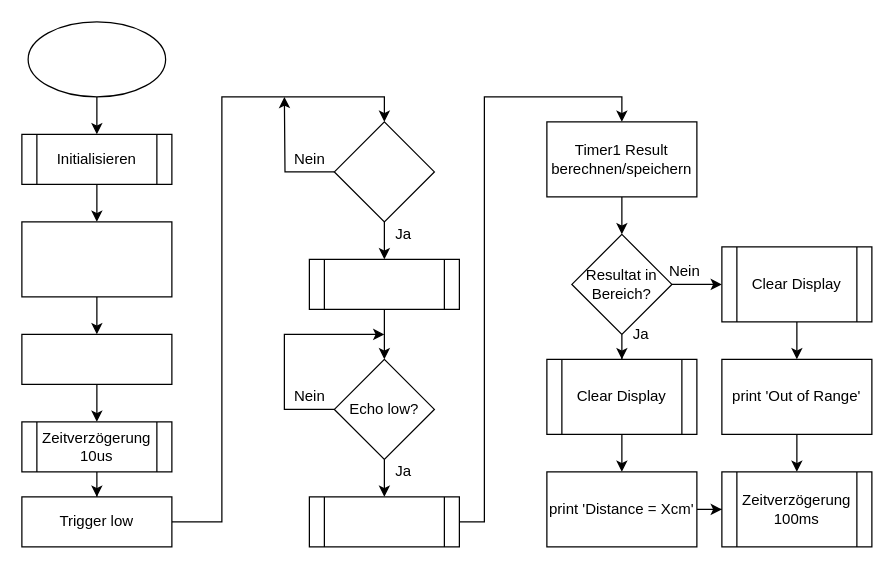
This 894x569 diagram has some shape labels left out. The shapes that lost their labels are listed below. From the top down, each one's centre as x and y in pixels, then its label:
At point 96,59: "Start".
At point 383,171: "Echo high?".
At point 96,259: "Timer1 Result Register löschen".
At point 383,283: "Start Timer1".
At point 96,358: "Trigger high".
At point 383,521: "Stop Timer1".
